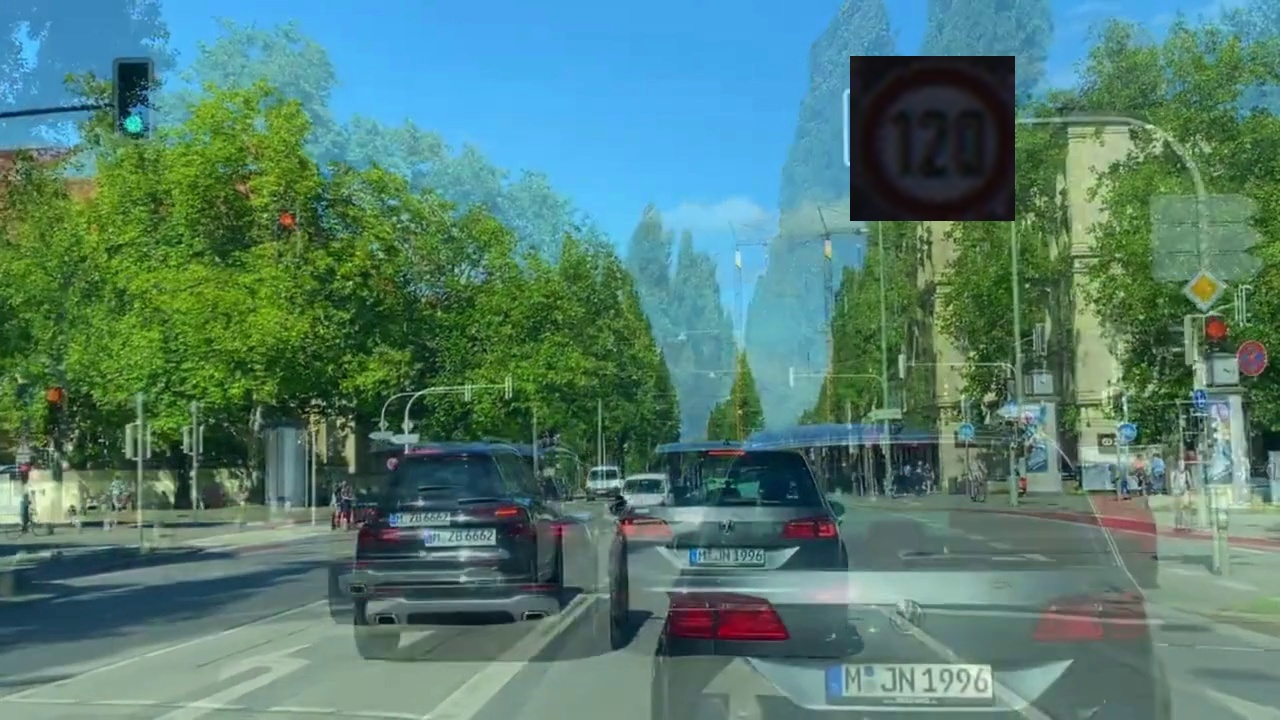Speed 120: (850, 56, 1015, 221)
